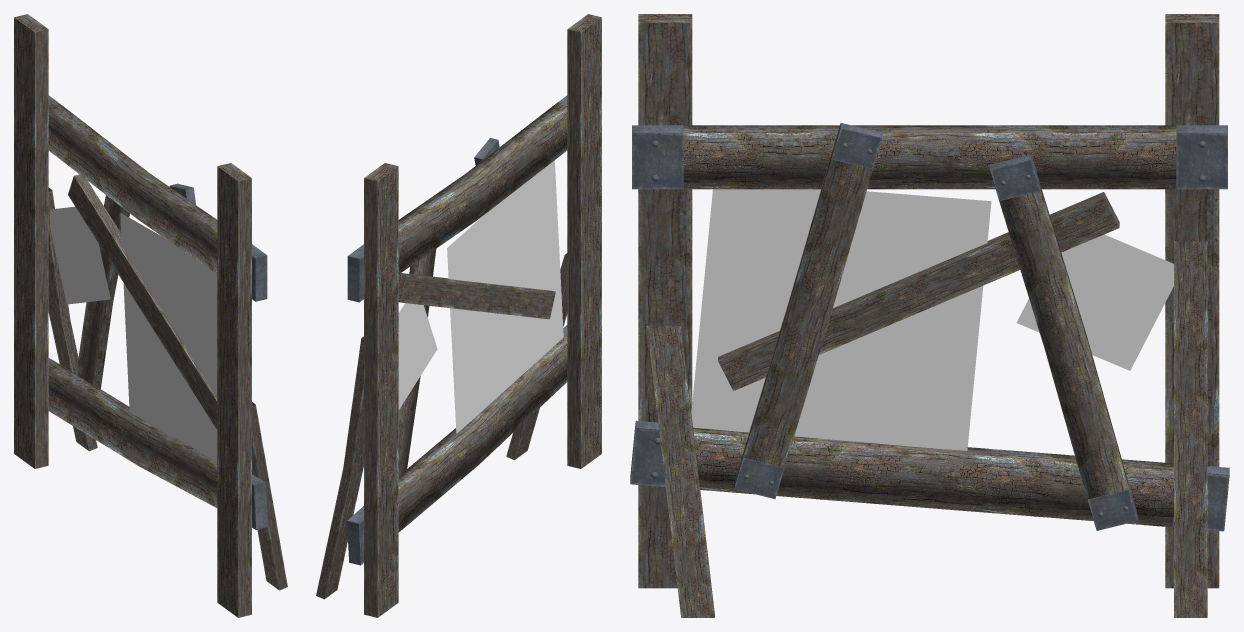
Rendered from Wood_3.FBX.
3 views of the same model, side by side, from view 1: azimuth 30°, elevation 25°; view 2: azimuth 150°, elevation 25°; view 3: azimuth 270°, elevation 25° (orthographic). The views are drawn at different scales.
Parts seen in each view (by area): view 1: Box39; view 2: Box39; view 3: Box39.
Boxes of the visible parts, x1=… form: Box39: x1=14, y1=14, x2=287, y2=617; Box39: x1=316, y1=14, x2=601, y2=617; Box39: x1=630, y1=14, x2=1229, y2=617.
Bounding box in the file's own units: 56.81 × 358 × 344.
3 materials, 3 textured.
